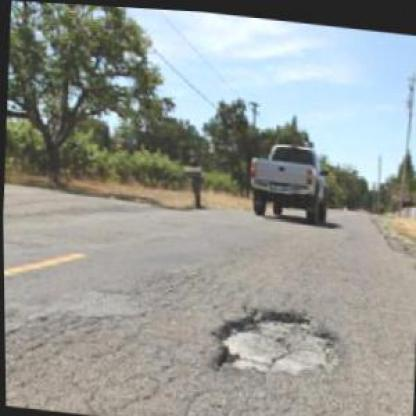pothole: (207, 296, 344, 382)
